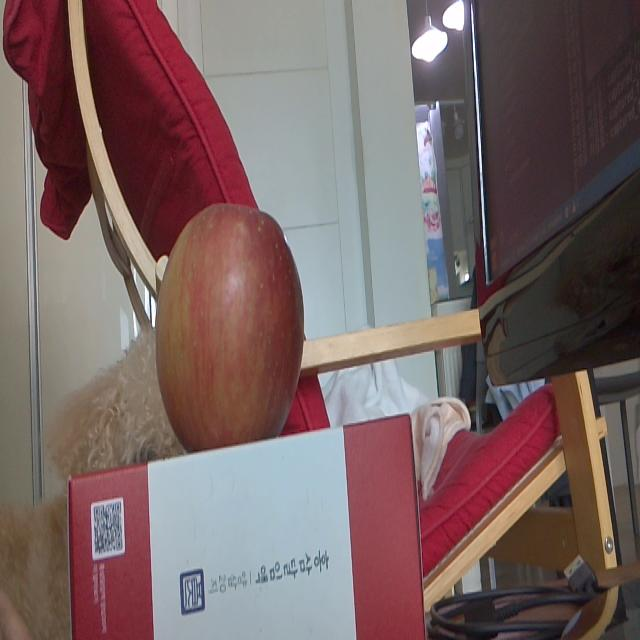apple: (154, 201, 302, 446)
